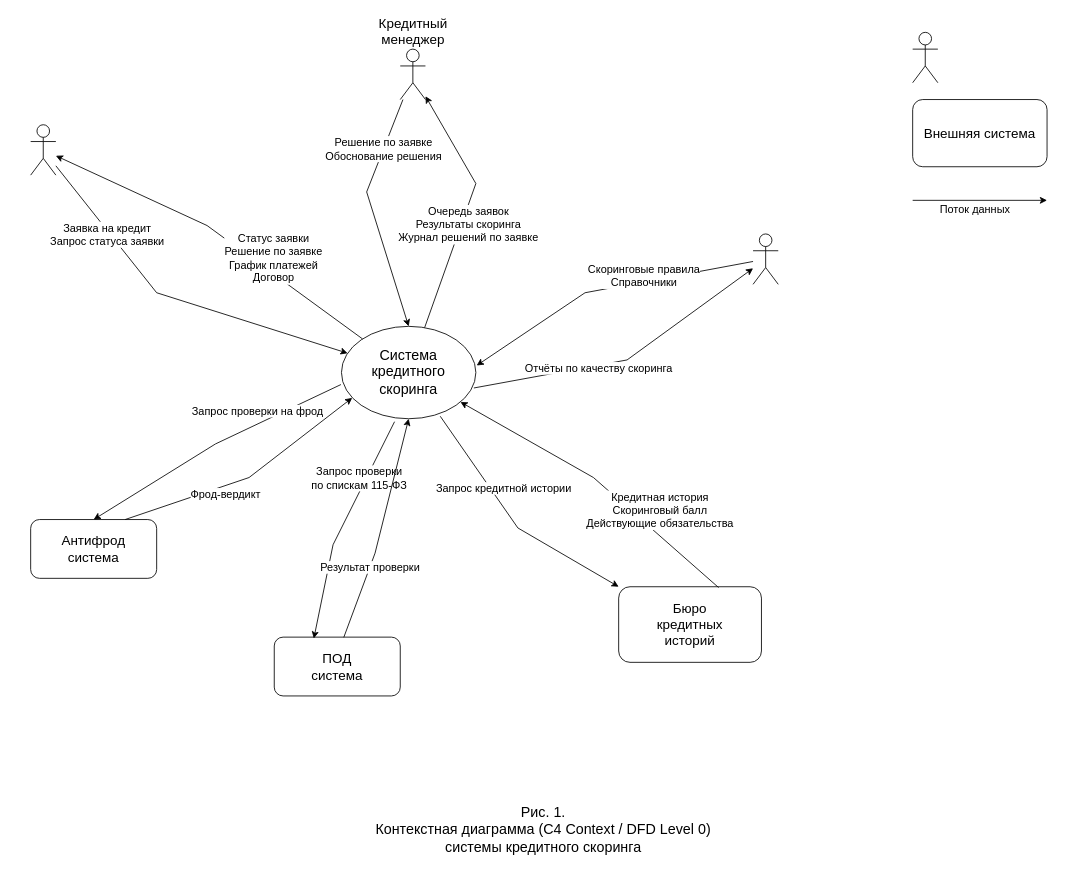
Some shapes in this 1068 by 886 pixel diagram are drawn without their labels. The shapes that lost their labels are listed below. From the top down, each one's box as (x1, y1, x2, y2) in pixels, then its label:
(912, 32, 938, 83): Человек (актор)
(30, 124, 56, 175): Заёмщик (клиент)
(752, 233, 778, 284): Андеррайтер (риск-аналитик)
